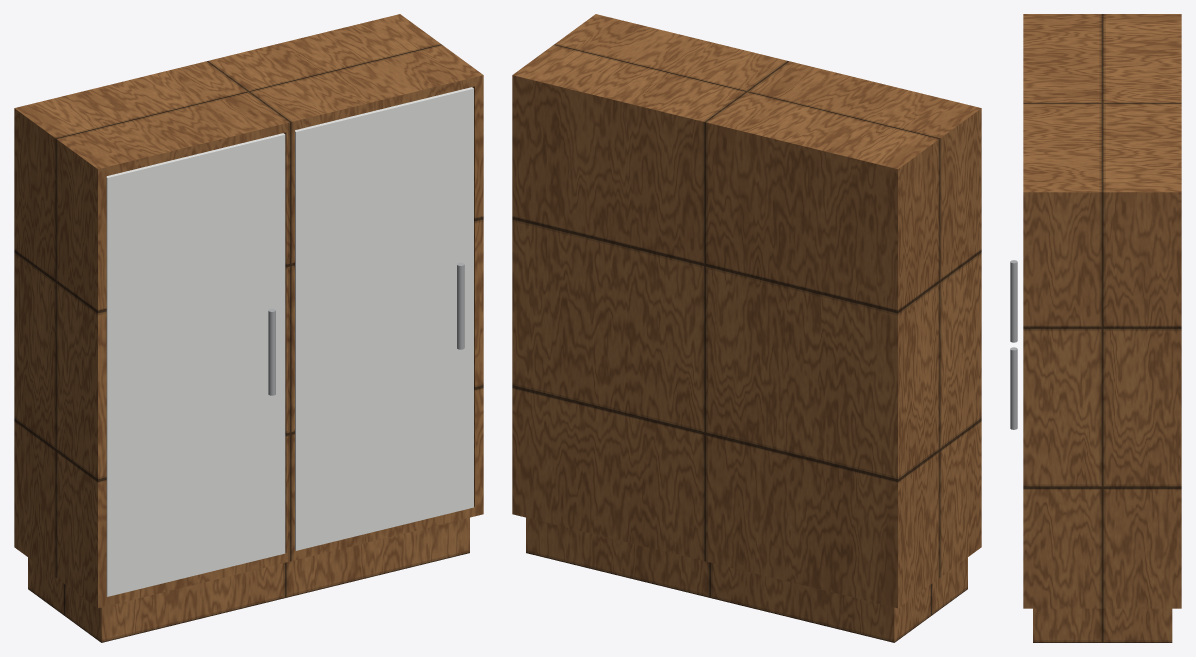
The model's file is Ciposszekreny.obj.
3 views of the same model, side by side, from view 1: azimuth 30°, elevation 25°; view 2: azimuth 150°, elevation 25°; view 3: azimuth 270°, elevation 25° (orthographic). The views are drawn at different scales.
Bounding box in the file's own units: 0.8 × 0.95 × 0.325.
Materials: 3 (1 with a texture image).
